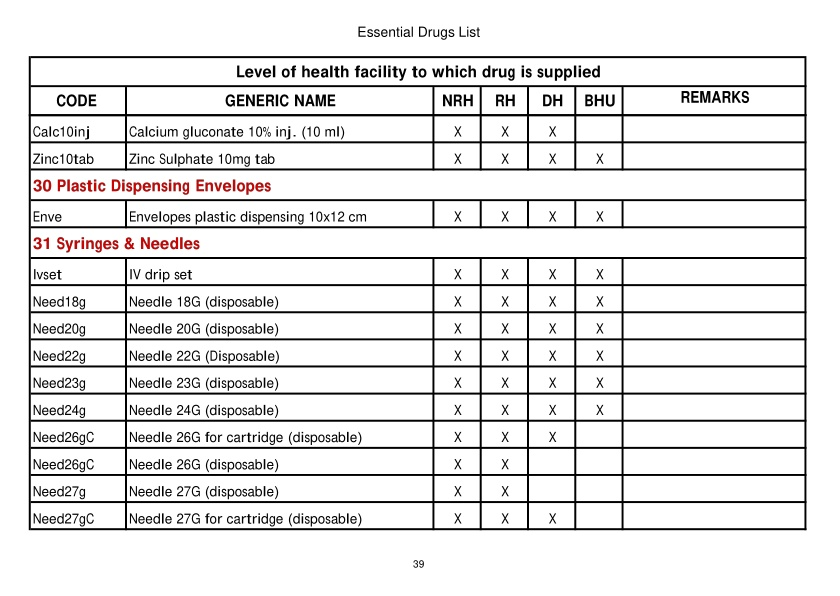merged_cells: (28, 54, 807, 532)
